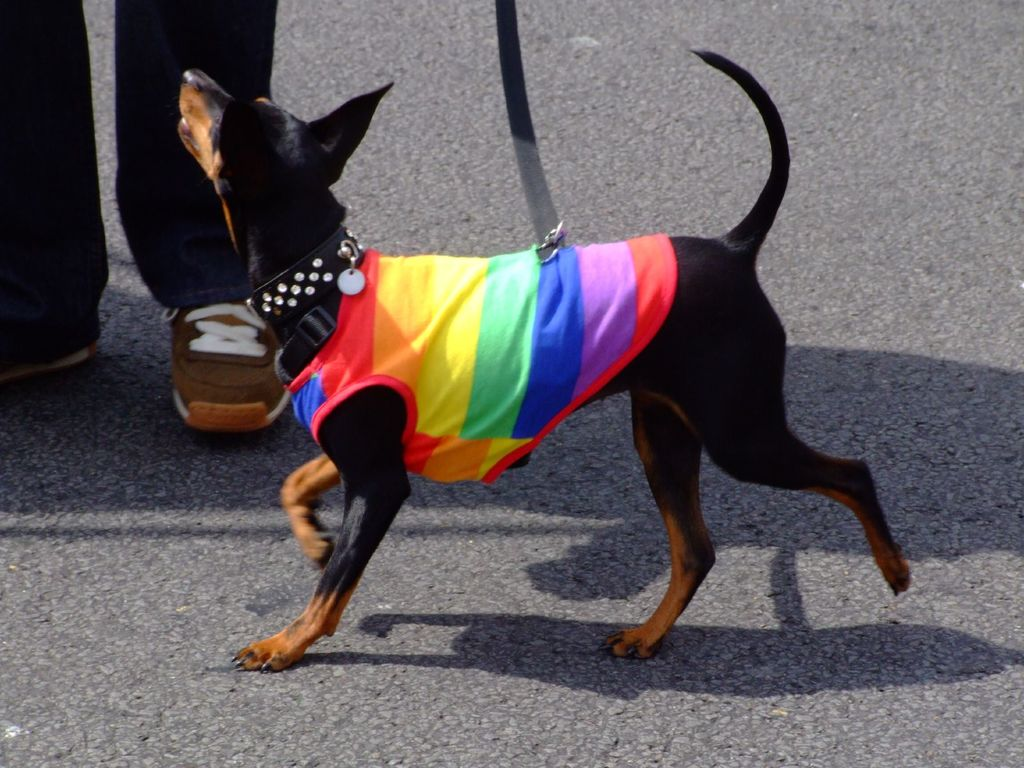Person: (0, 0, 290, 431)
